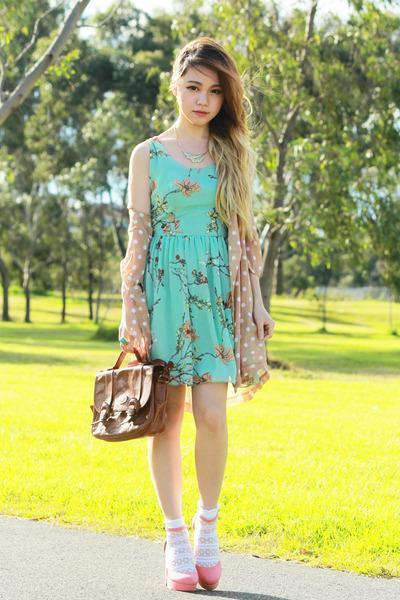bag: (92, 348, 176, 459)
dress: (145, 140, 237, 390)
shoe: (173, 562, 227, 599)
